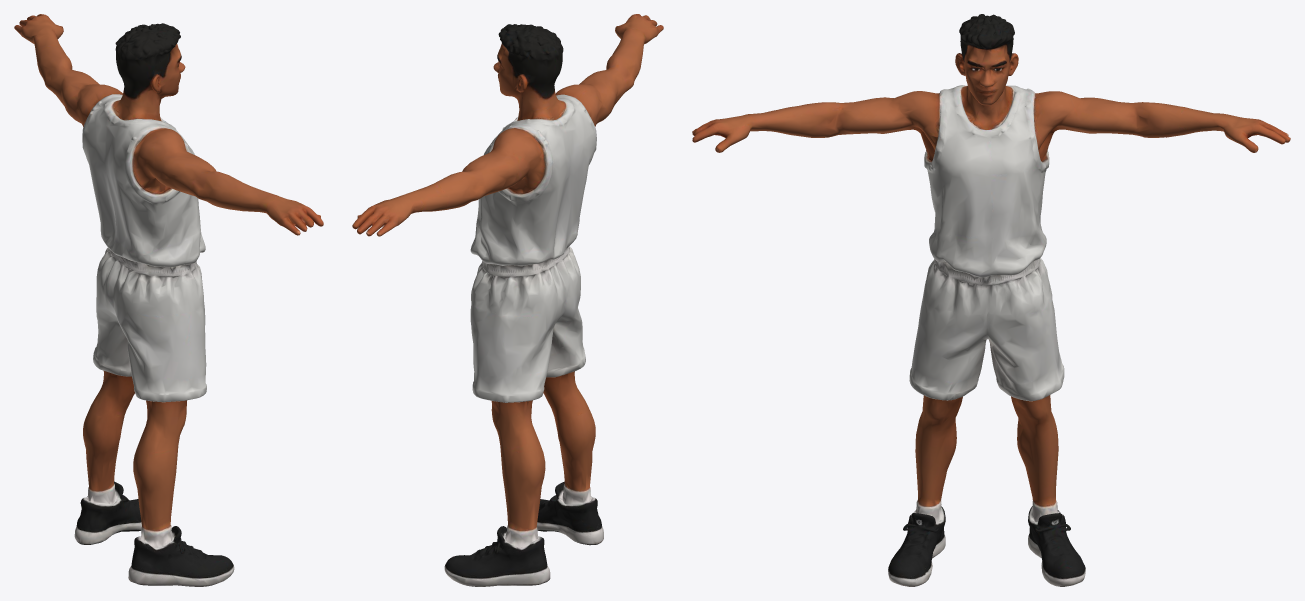
Rendered from player.glb.
3 views of the same model, side by side, from view 1: azimuth 30°, elevation 25°; view 2: azimuth 150°, elevation 25°; view 3: azimuth 270°, elevation 25° (orthographic). The views are drawn at different scales.
Parts seen in each view (by area): view 1: tripo_node_f668c6b0-9353-4321-9b9e-98521f4a01d2; view 2: tripo_node_f668c6b0-9353-4321-9b9e-98521f4a01d2; view 3: tripo_node_f668c6b0-9353-4321-9b9e-98521f4a01d2.
Part boxes in pixels (x1=…): tripo_node_f668c6b0-9353-4321-9b9e-98521f4a01d2: x1=14, y1=14, x2=323, y2=586; tripo_node_f668c6b0-9353-4321-9b9e-98521f4a01d2: x1=352, y1=14, x2=663, y2=586; tripo_node_f668c6b0-9353-4321-9b9e-98521f4a01d2: x1=692, y1=14, x2=1290, y2=586.
Size of the model in its own units: 0.1859 by 1 by 0.9805.
Materials: 1 (1 with a texture image).
